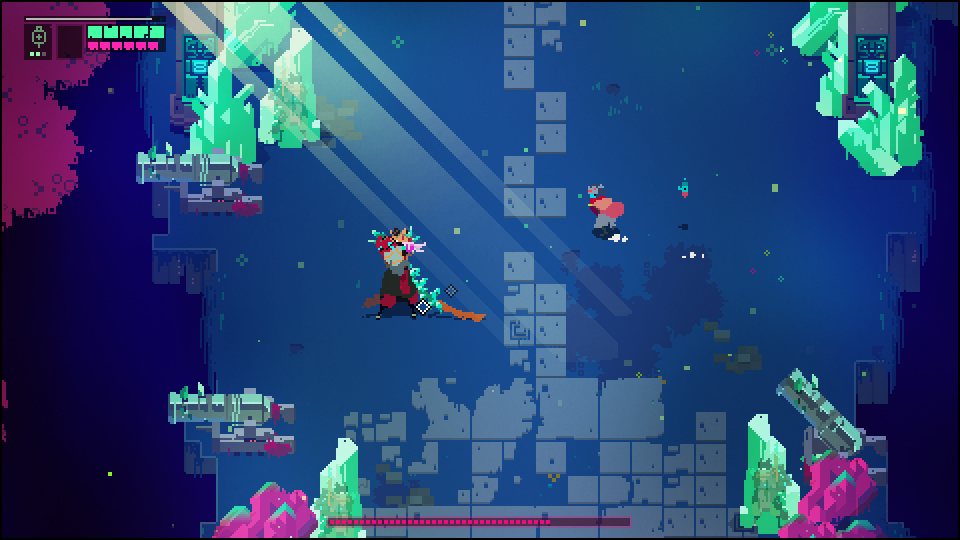hanged_man: (362, 223, 443, 328)
player: (579, 181, 624, 241)
